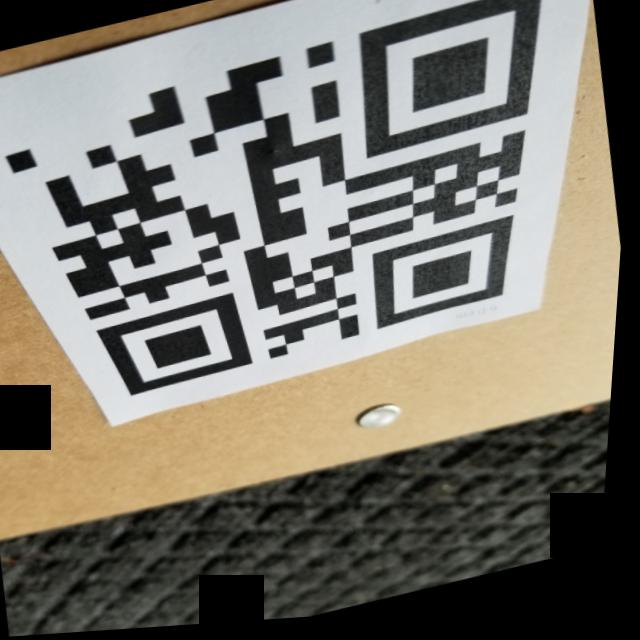QR_CODE: (0, 0, 613, 441)
